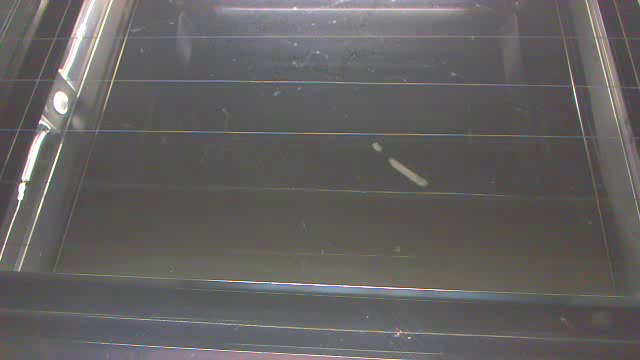alpha: (371, 142, 428, 187)
